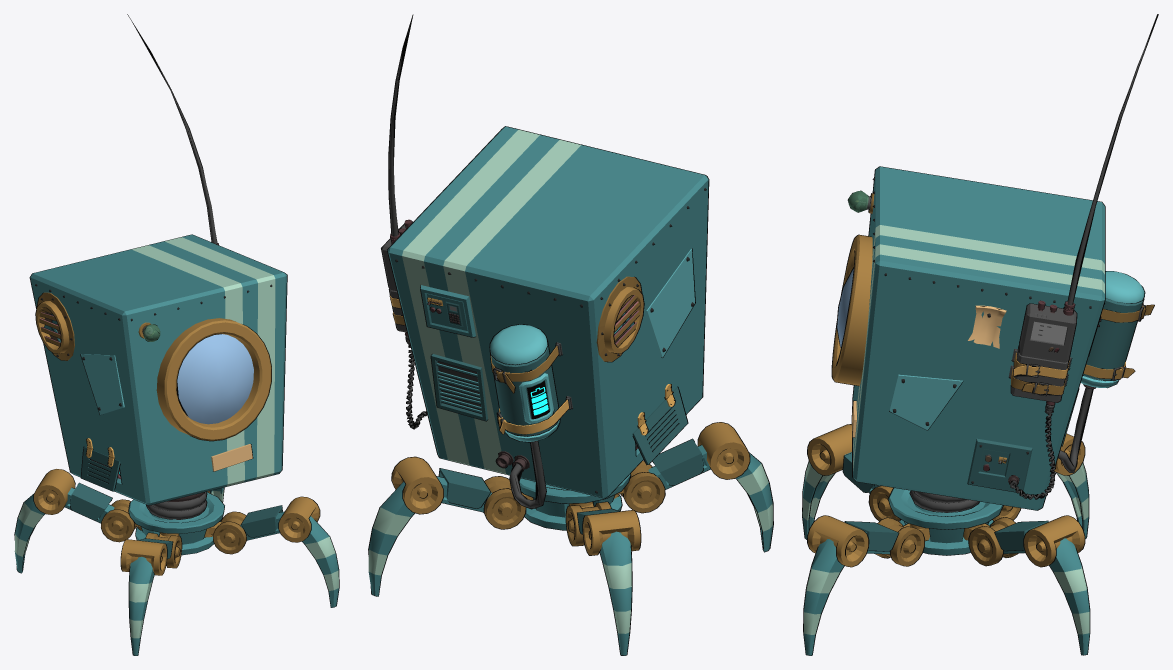
Rendered from enemy_ranged_a.glb.
3 views of the same model, side by side, from view 1: azimuth 30°, elevation 25°; view 2: azimuth 150°, elevation 25°; view 3: azimuth 270°, elevation 25° (orthographic). The views are drawn at different scales.
Visible parts, largest first — view 1: Object041_Material #1601_0, Object041_steel_02_02_0, Object041_Material #1602_0, Object041_Material #1627_0, Object040_Material #1573_0, Object041_steel_02_03_0, Object041_Material #1628_0, Object041_Material #1625_0, Object041_Material #1651_0, Object041_Material #5503_0; view 2: Object041_Material #1601_0, Object041_Material #1602_0, Object040_Material #1573_0, Object041_Material #1628_0, Object041_steel_02_02_0, Object041_Material #1625_0, Object041_steel_02_03_0, Object041_Material #1651_0, Object041_steel_02_01_0; view 3: Object041_Material #1601_0, Object041_steel_02_02_0, Object041_Material #1602_0, Object040_Material #1573_0, Object041_Material #1628_0, Object041_steel_02_03_0, Object041_Material #1625_0, Object041_Material #1651_0, Object041_Material #1881_0, Object041_Material #5503_0, Object041_Material #1882_0, Object041_Material #1627_0.
Boxes of the visible parts, x1,y1,x2,y2 form: Object041_Material #1601_0: [15, 234, 338, 655]; Object041_steel_02_02_0: [34, 301, 319, 575]; Object041_Material #1602_0: [14, 237, 338, 638]; Object041_Material #1627_0: [177, 334, 253, 424]; Object040_Material #1573_0: [14, 14, 339, 655]; Object041_steel_02_03_0: [37, 292, 246, 567]; Object041_Material #1628_0: [52, 328, 282, 558]; Object041_Material #1625_0: [80, 354, 124, 414]; Object041_Material #1651_0: [120, 52, 217, 519]; Object041_Material #5503_0: [211, 444, 252, 471]; Object041_Material #1601_0: [368, 126, 772, 655]; Object041_Material #1602_0: [368, 129, 772, 633]; Object040_Material #1573_0: [368, 14, 773, 655]; Object041_Material #1628_0: [431, 301, 703, 533]; Object041_steel_02_02_0: [392, 287, 749, 555]; Object041_Material #1625_0: [490, 248, 694, 441]; Object041_steel_02_03_0: [427, 276, 672, 545]; Object041_Material #1651_0: [389, 20, 636, 508]; Object041_steel_02_01_0: [390, 296, 674, 435]; Object041_Material #1601_0: [803, 166, 1104, 655]; Object041_steel_02_02_0: [808, 235, 1144, 566]; Object041_Material #1602_0: [802, 225, 1104, 634]; Object040_Material #1573_0: [802, 14, 1158, 655]; Object041_Material #1628_0: [843, 298, 1143, 551]; Object041_steel_02_03_0: [869, 193, 1154, 566]; Object041_Material #1625_0: [889, 271, 1144, 430]; Object041_Material #1651_0: [910, 33, 1150, 512]; Object041_Material #1881_0: [867, 196, 1076, 463]; Object041_Material #5503_0: [852, 305, 1006, 437]; Object041_Material #1882_0: [1030, 321, 1067, 344]; Object041_Material #1627_0: [837, 269, 853, 348].
Bounding box in the file's own units: 39.84 × 92.29 × 49.28.
